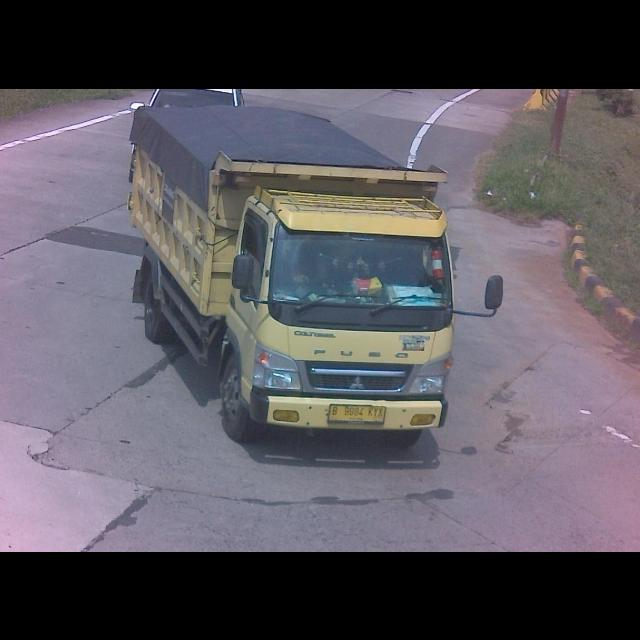plate: (328, 400, 388, 426)
